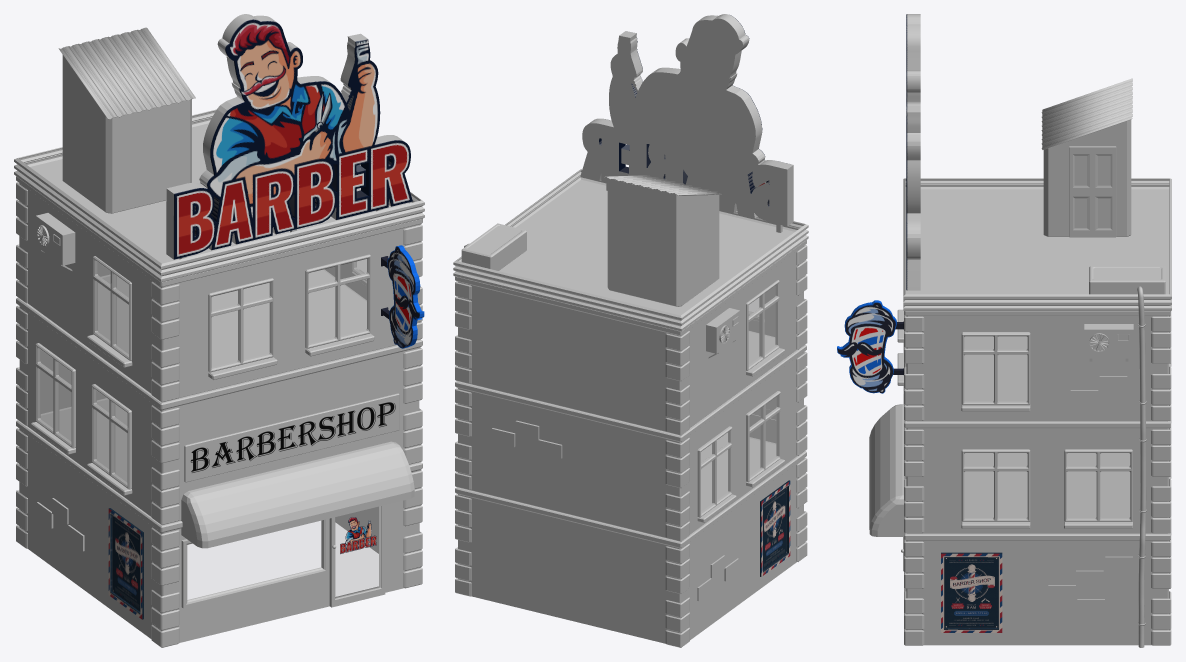
3 views of the same model, side by side, from view 1: azimuth 30°, elevation 25°; view 2: azimuth 150°, elevation 25°; view 3: azimuth 270°, elevation 25° (orthographic). The views are drawn at different scales.
Parts seen in each view (by area): view 1: Shop Base, Cube.001, Cube.003, Roof, Roof Doorway, Simple Single Window_Single Window, Roof Doorway.001, Barber shop front board for sign, Simple Window_Simple Window.004, Simple Window_Simple Window.005, Door, Simple Window_Simple Window.007 (+9 smaller); view 2: Shop Base, Cube.001, Roof, Roof Doorway, Simple Window_Simple Window.008, Simple Window_Simple Window.007, Plane.002, Simple Window_Simple Window.006, Water Tank, Air Conditioner Unit.001, Roof Doorway.001; view 3: Shop Base, Roof, Simple Window_Simple Window.002, Simple Window_Simple Window, Simple Window_Simple Window.001, Plane.001, Roof Doorway, Low Poly Door_Cube.006, Cube.003, Cube.001, Plane, Roof Doorway.001 (+6 smaller).
Boxes of the visible parts, x1,y1,x2,y2 form: Shop Base: (16, 176, 422, 647); Cube.001: (166, 14, 412, 259); Cube.003: (181, 441, 414, 548); Roof: (14, 109, 424, 282); Roof Doorway: (62, 55, 191, 213); Simple Single Window_Single Window: (181, 519, 328, 608); Roof Doorway.001: (58, 27, 195, 119); Barber shop front board for sign: (184, 393, 399, 482); Simple Window_Simple Window.004: (208, 278, 273, 372); Simple Window_Simple Window.005: (305, 254, 370, 348); Door: (329, 505, 385, 607); Simple Window_Simple Window.007: (91, 384, 131, 489); Shop Base: (455, 240, 807, 647); Cube.001: (580, 14, 793, 226); Roof: (453, 169, 808, 331); Roof Doorway: (607, 178, 719, 306); Simple Window_Simple Window.008: (697, 426, 732, 517); Simple Window_Simple Window.007: (746, 391, 780, 482); Plane.002: (760, 480, 790, 576); Simple Window_Simple Window.006: (746, 280, 779, 370); Water Tank: (461, 223, 526, 270); Air Conditioner Unit.001: (706, 308, 739, 358); Roof Doorway.001: (604, 175, 722, 195); Shop Base: (903, 311, 1171, 645); Roof: (903, 178, 1171, 311); Simple Window_Simple Window.002: (961, 332, 1030, 405); Simple Window_Simple Window: (961, 449, 1030, 521); Simple Window_Simple Window.001: (1064, 449, 1132, 521); Plane.001: (941, 552, 1002, 632); Roof Doorway: (1043, 119, 1131, 236); Low Poly Door_Cube.006: (1069, 146, 1116, 237); Cube.003: (869, 404, 904, 536); Cube.001: (906, 14, 920, 290); Plane: (837, 300, 903, 393); Roof Doorway.001: (1041, 78, 1132, 149).
Bounding box in the file's own units: 5.92 × 11.98 × 6.55.
